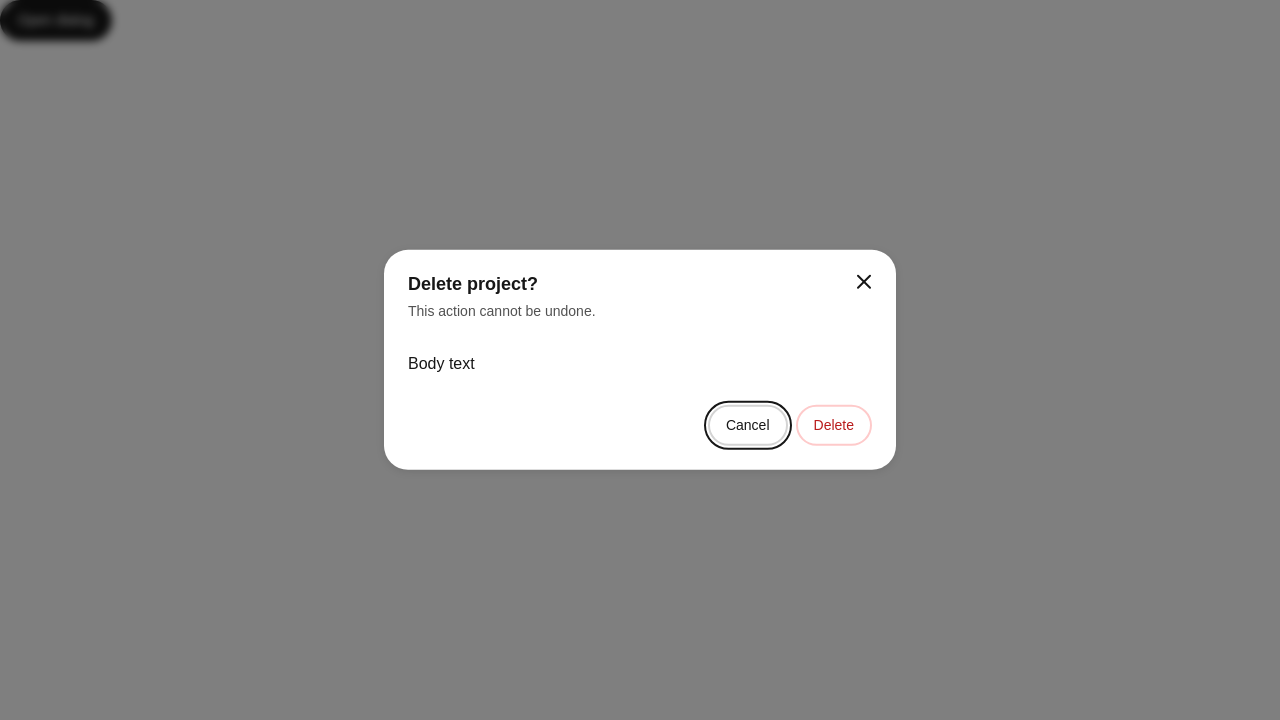
Test: Dialog › backdrop dismissal › closes when the backdrop is clicked
This screenshot has width=1280, height=720.
Click the element with class "notable-dialog__backdrop": (77, 360) [0,0,1279,719]
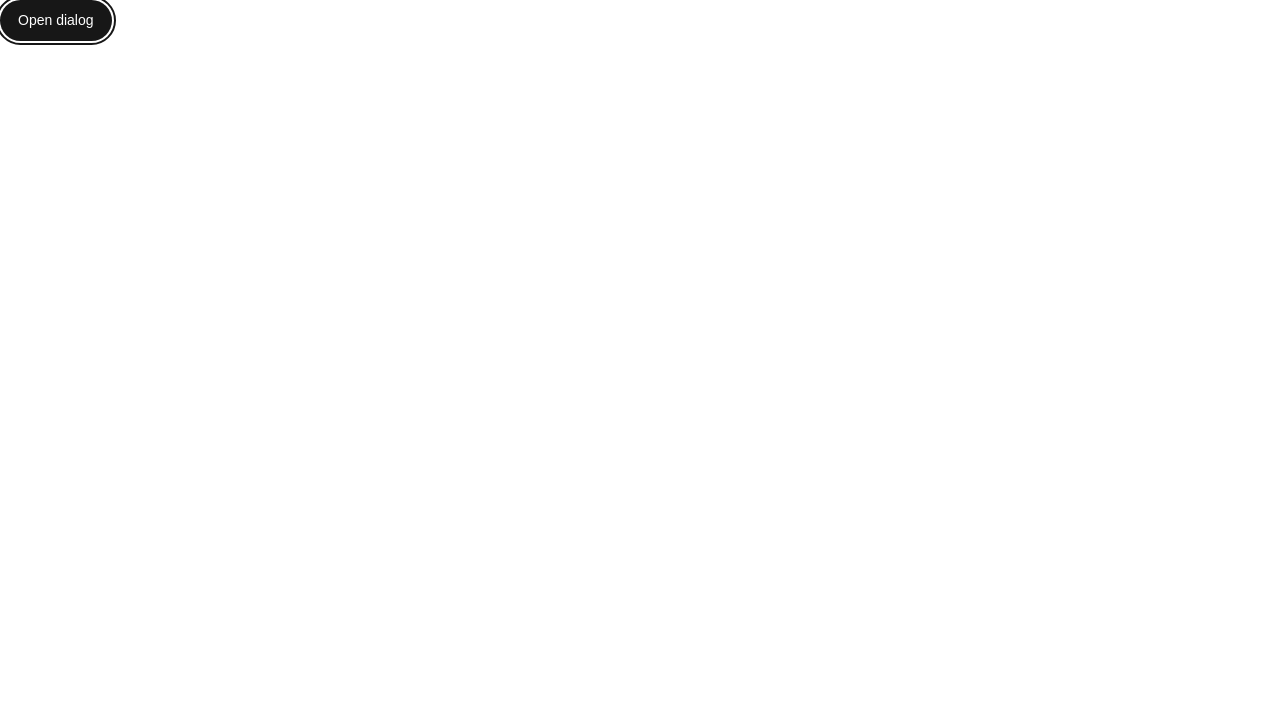
Now the dialog is gone
